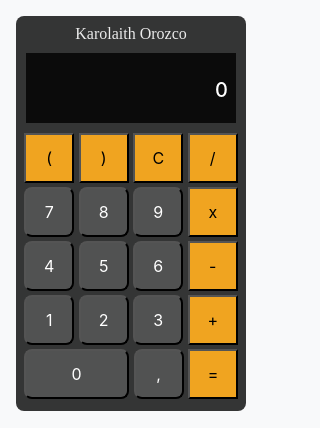
Test: test the calculator operation › button sum
Click the button with id "btnSum": (213, 320) left=188, top=295, right=238, bottom=345
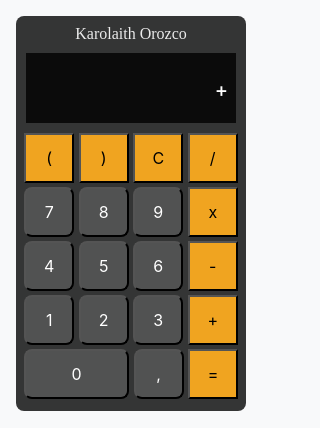
Check: the heading with id "textview" reads "+", box left=215, top=78, right=228, bottom=102
